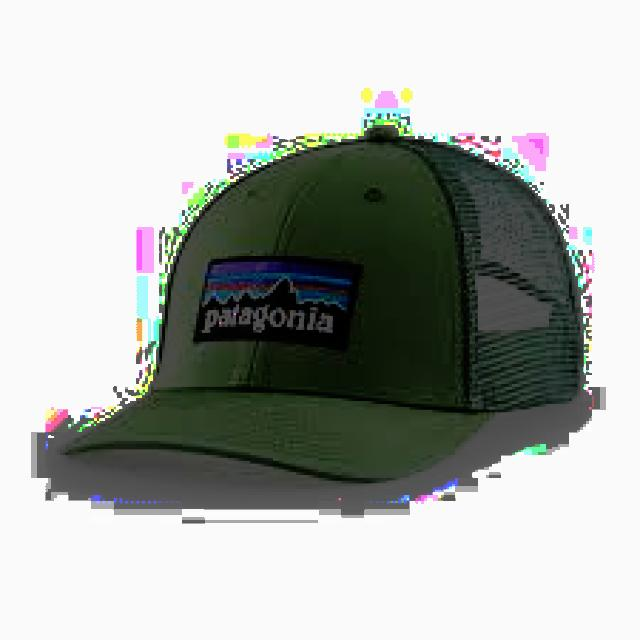TOPI: (54, 125, 583, 484)
